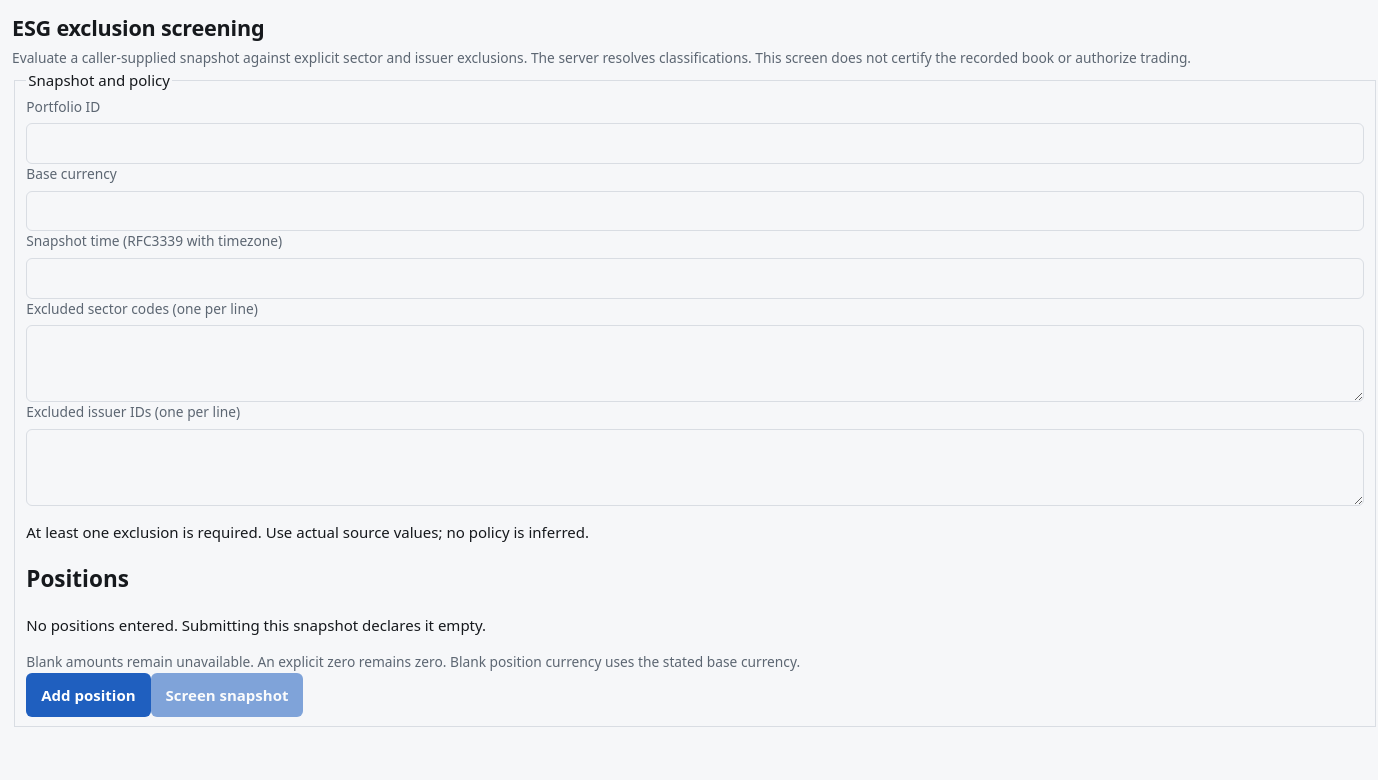
Test: shows rolling-deployment refusal without raw backend text
In the field named "portfolio": (695, 144) [26,123,1364,164], type "test"
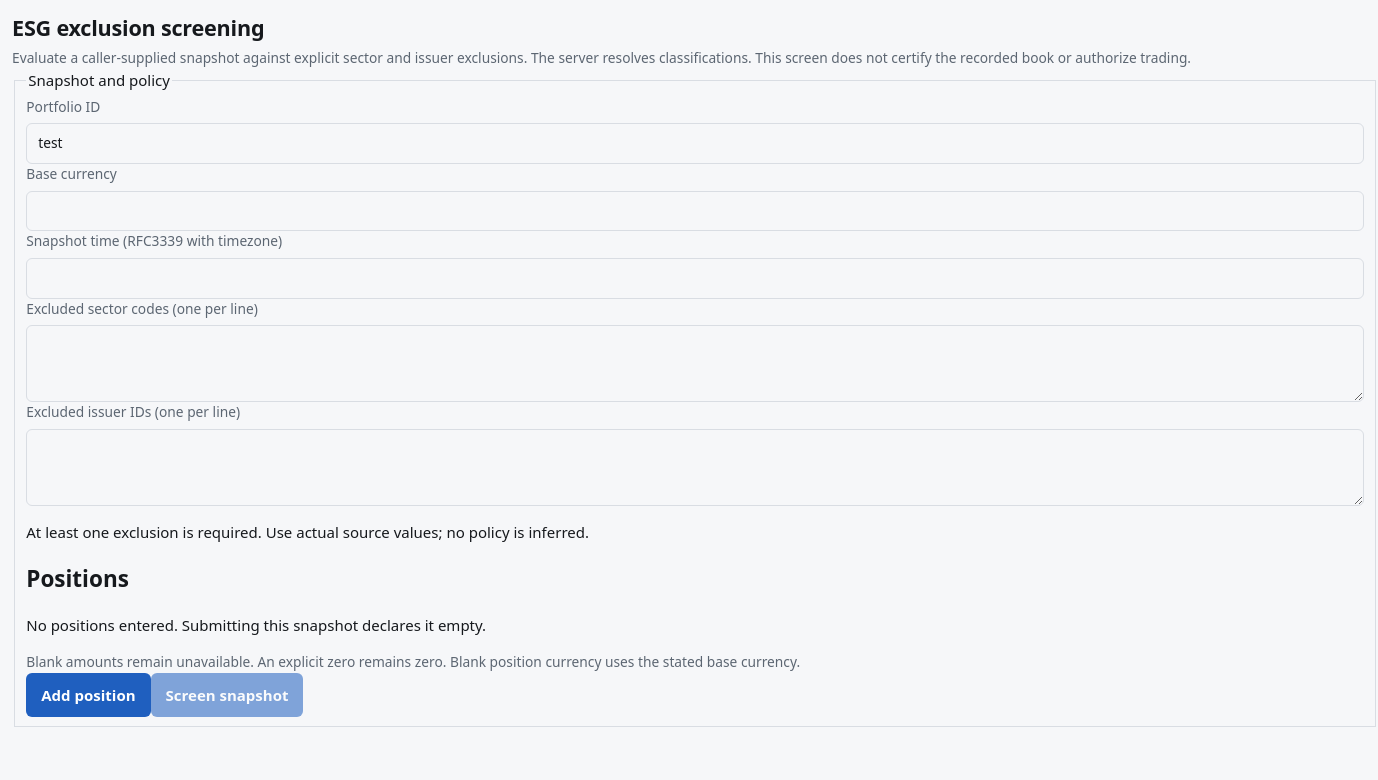
In the field named "currency": (695, 211) [26,191,1364,231], type "USD"
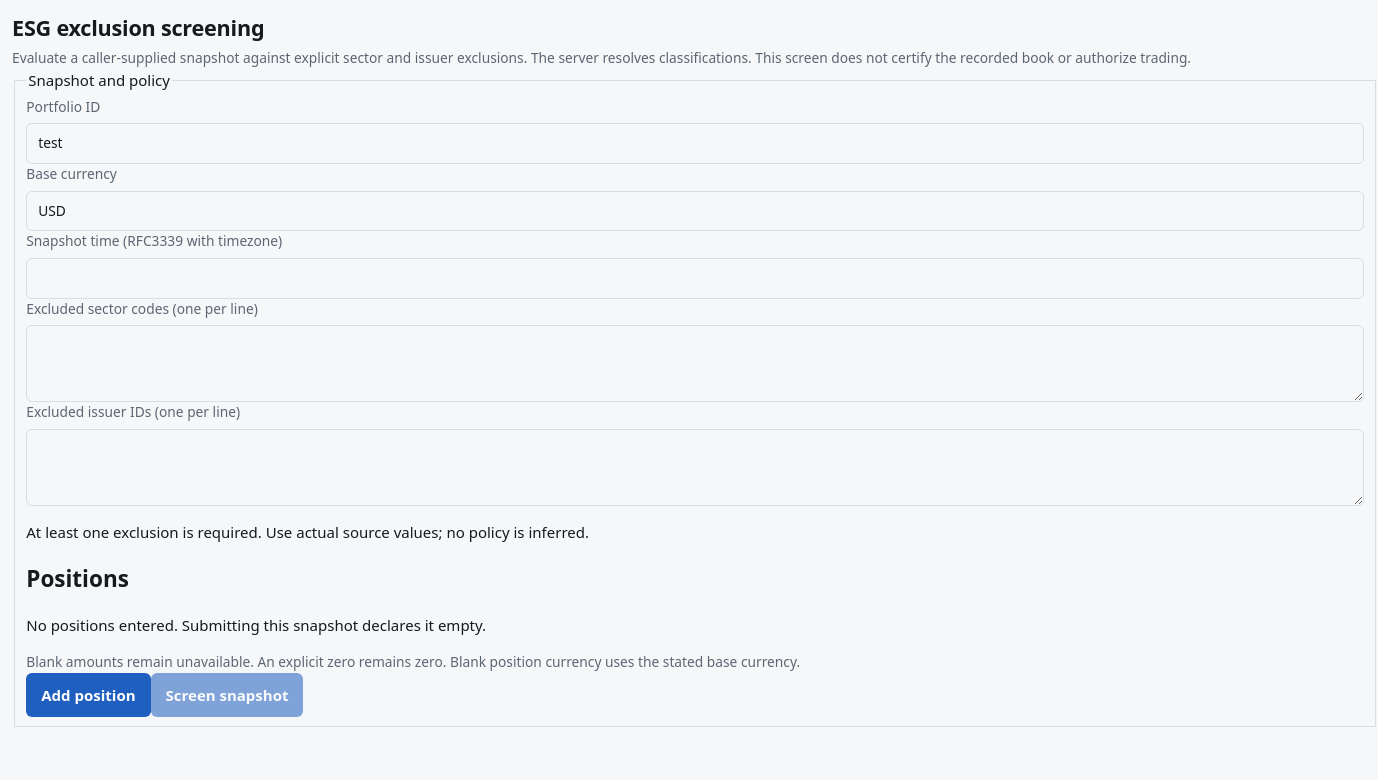
In the field named "as-of": (695, 278) [26,258,1364,299], type "2026-01-01T00:00:00Z"
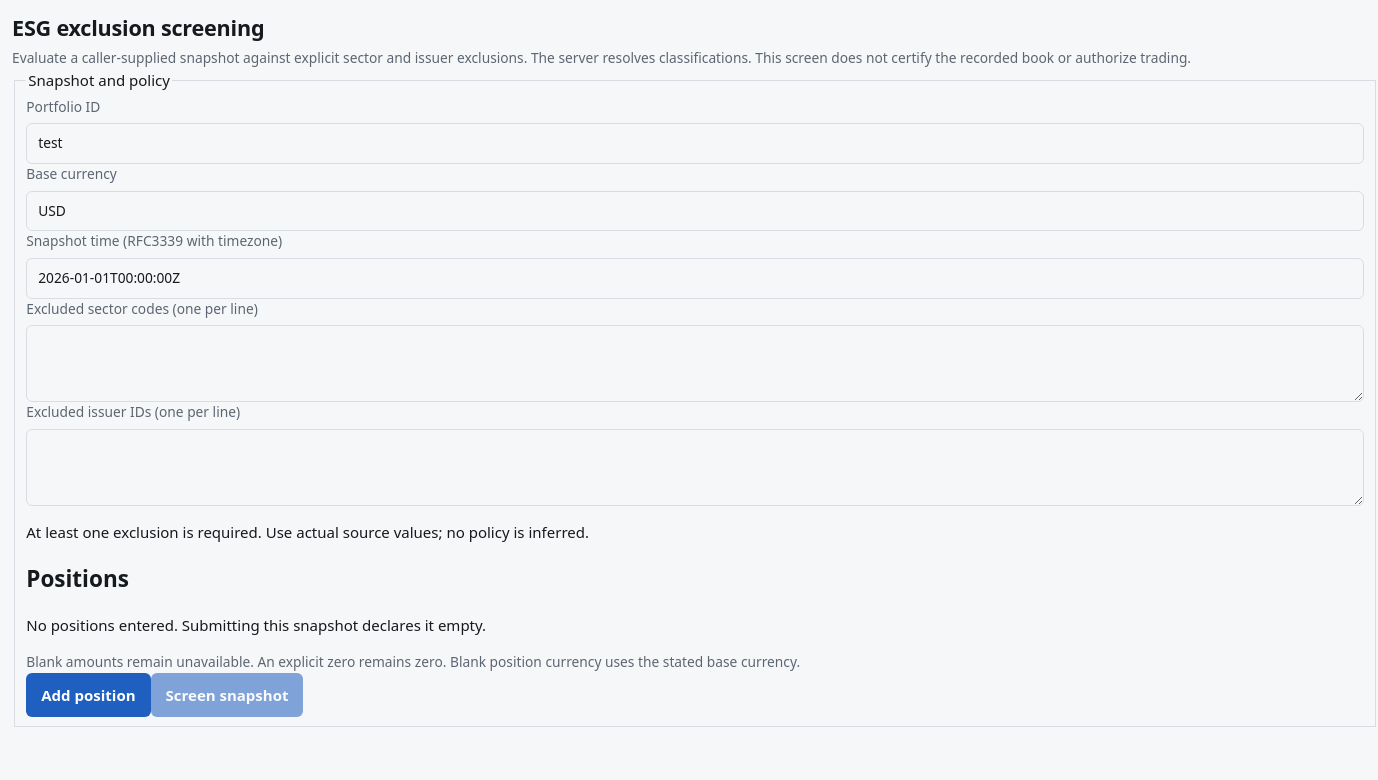
In the text box named "sectors": (695, 364) [26,325,1364,402], type "TEST-SECTOR"
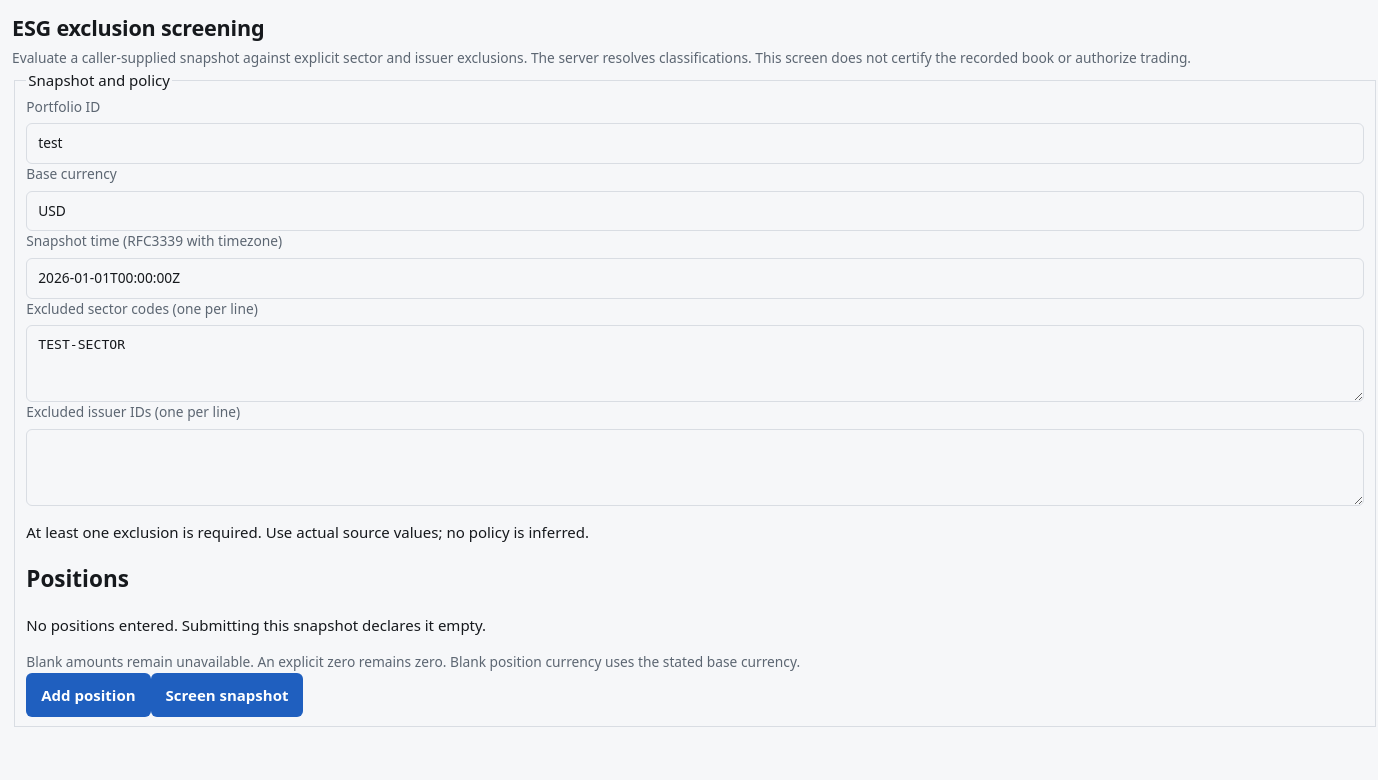
Submit the form
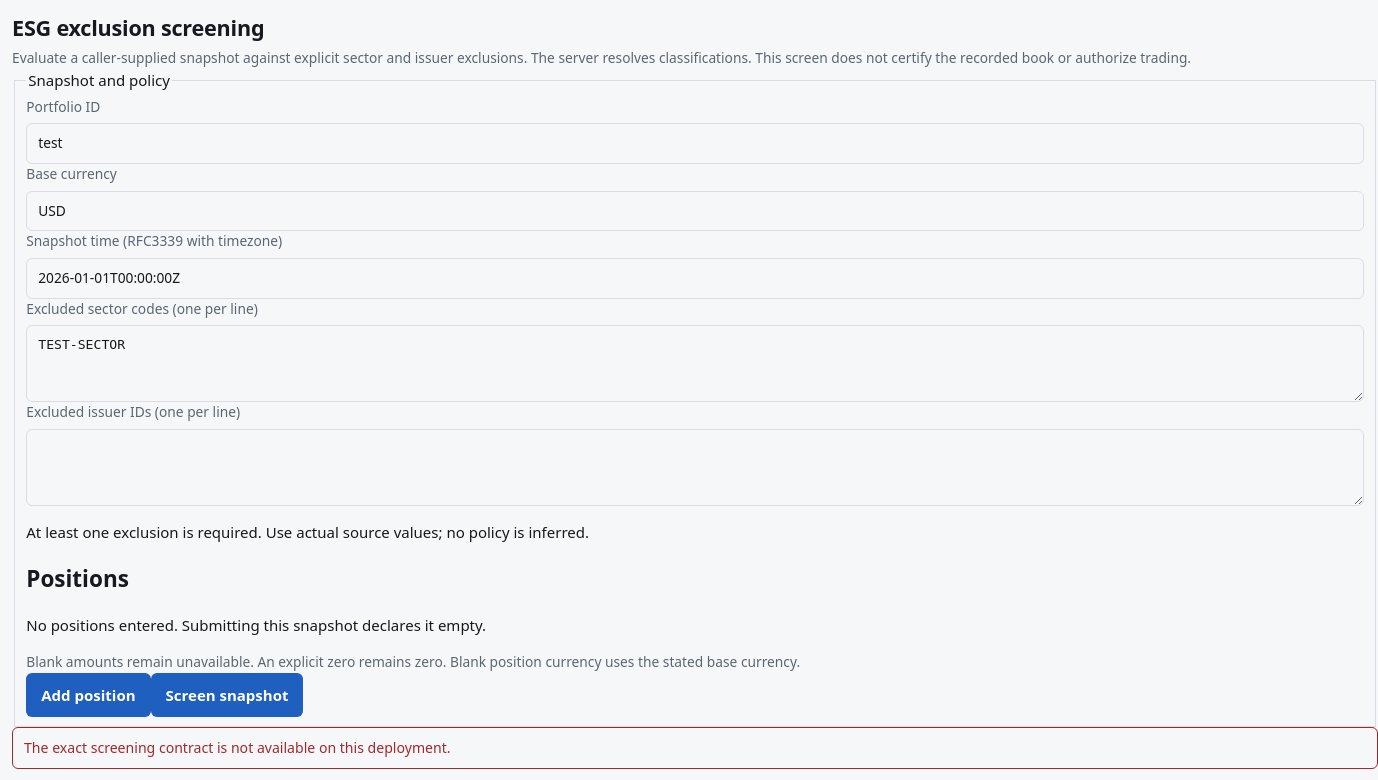
Expected: the text "exact screening contract is not available" is shown, [24,738,450,758]
